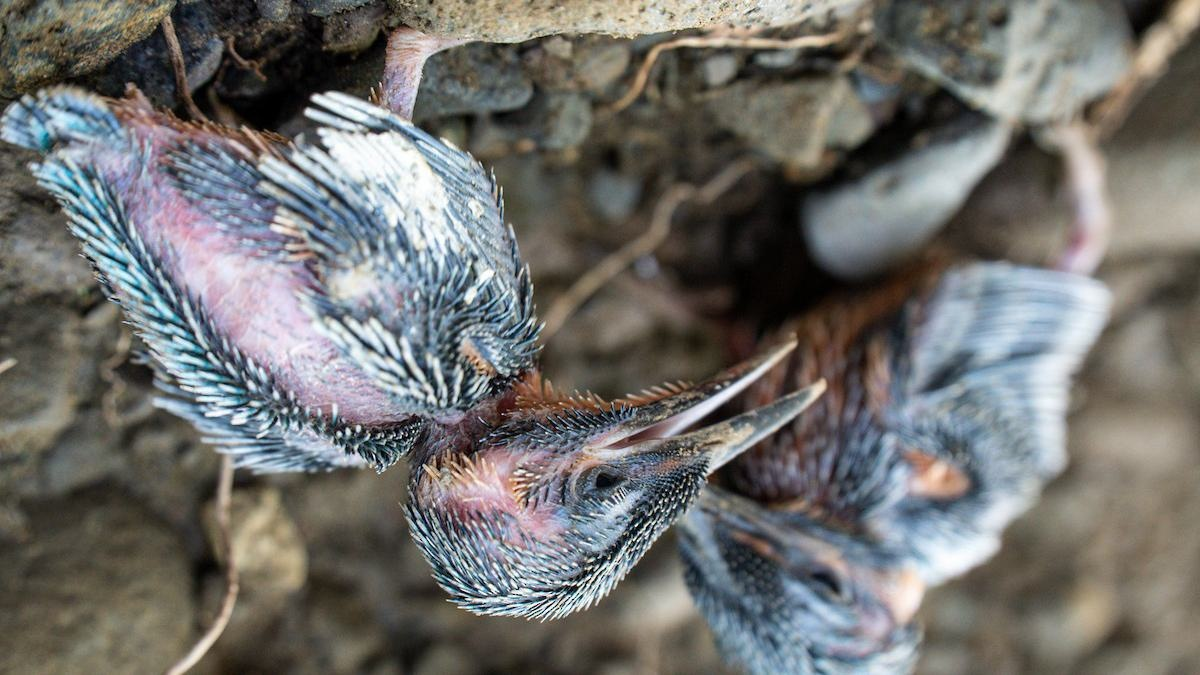kingfisher: (15, 80, 819, 595)
